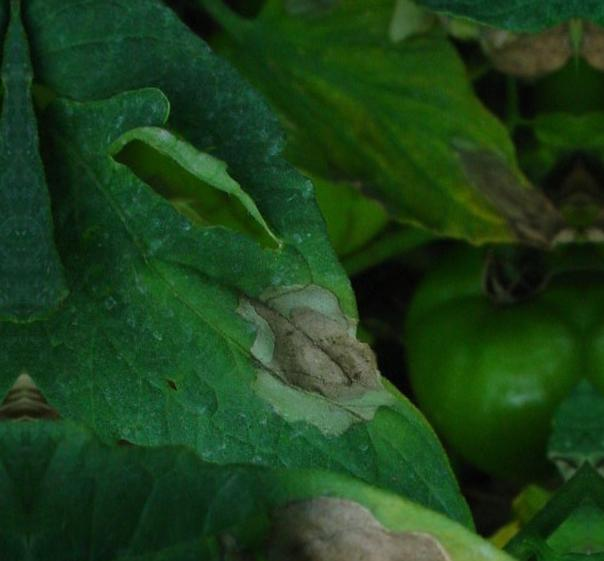Tomato leaf late blight: (23, 0, 433, 514)
